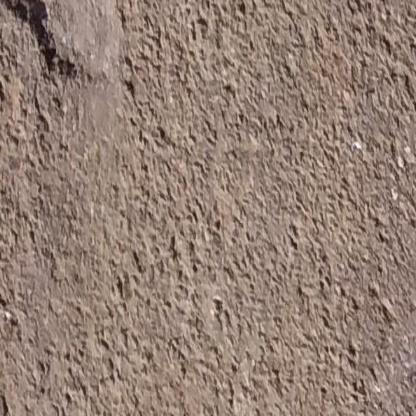Cracks: (0, 0, 87, 83)
